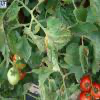Tomato leaf bacterial spot: (40, 15, 70, 70), (62, 42, 84, 68), (17, 32, 33, 65), (36, 64, 51, 99), (67, 21, 99, 37), (77, 43, 90, 75), (47, 79, 57, 94)
